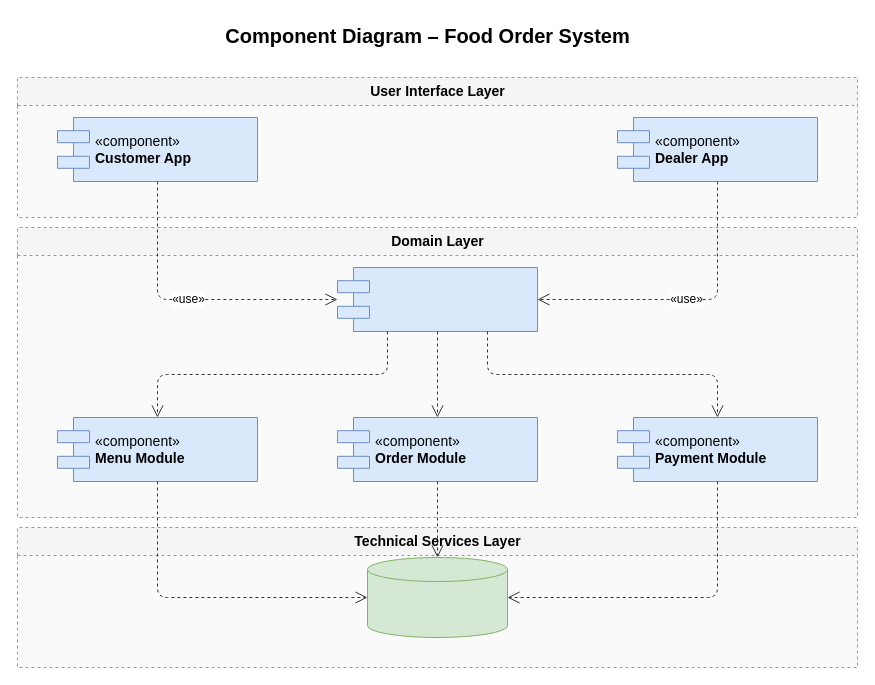
The diagram is 875 pixels wide and 685 high, and some of its shapes have lost their labels. The centre of each missing label's shape, as x and y in pixels:
Food Order DB: the point at 437,597
«component» Food Ordering System: the point at 437,299
